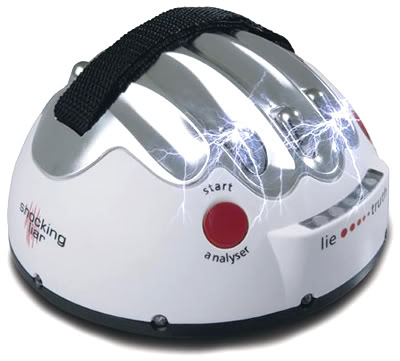helmet: (21, 19, 381, 319)
